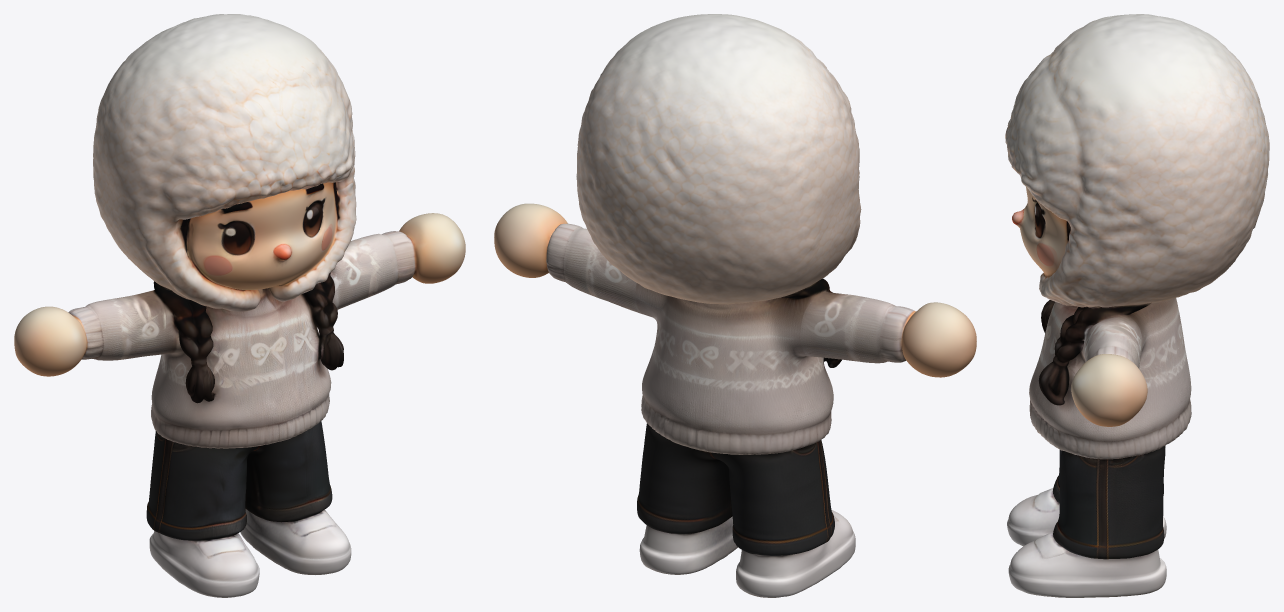
File: Beanie_Winter_SINGLE_for_Mixamo.fbx
3 renders of one model, left to right at view 1: azimuth 30°, elevation 25°; view 2: azimuth 150°, elevation 25°; view 3: azimuth 270°, elevation 25°, orthographic. The views are drawn at different scales.
Visible parts, largest first — view 1: Beanie_Winter_Mixamo; view 2: Beanie_Winter_Mixamo; view 3: Beanie_Winter_Mixamo.
Part boxes in pixels (x1,y1,x2,y2): Beanie_Winter_Mixamo: [14, 14, 465, 597]; Beanie_Winter_Mixamo: [494, 14, 976, 597]; Beanie_Winter_Mixamo: [1005, 14, 1269, 597].
Bounding box in the file's own units: 171 × 190 × 85.34.
1 material, 1 textured.
